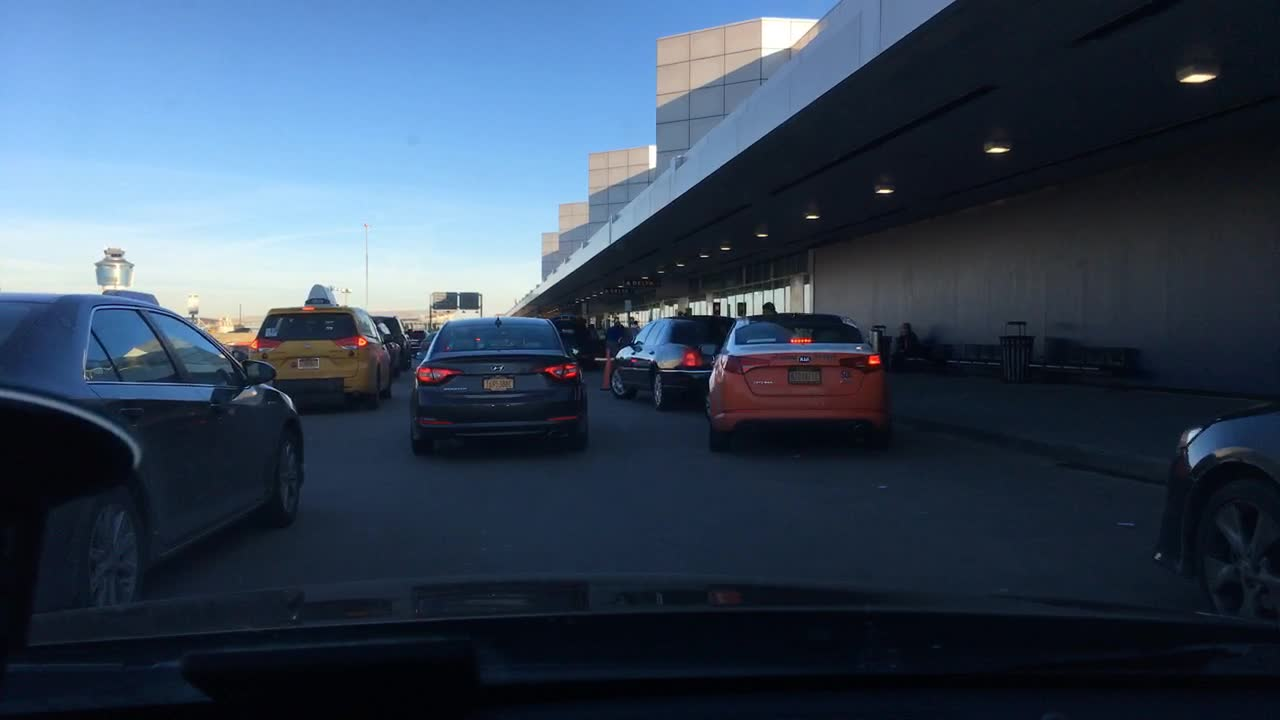car: (0, 288, 302, 607), (1149, 398, 1279, 624), (703, 310, 892, 452), (406, 314, 587, 454), (246, 285, 395, 405), (607, 314, 734, 412), (552, 317, 597, 369), (371, 315, 401, 374), (206, 320, 260, 351), (381, 314, 410, 369), (602, 324, 638, 359), (415, 327, 438, 366), (403, 327, 423, 351)
person: (898, 322, 924, 373)
traffic sign: (430, 290, 457, 312), (457, 288, 479, 307)
